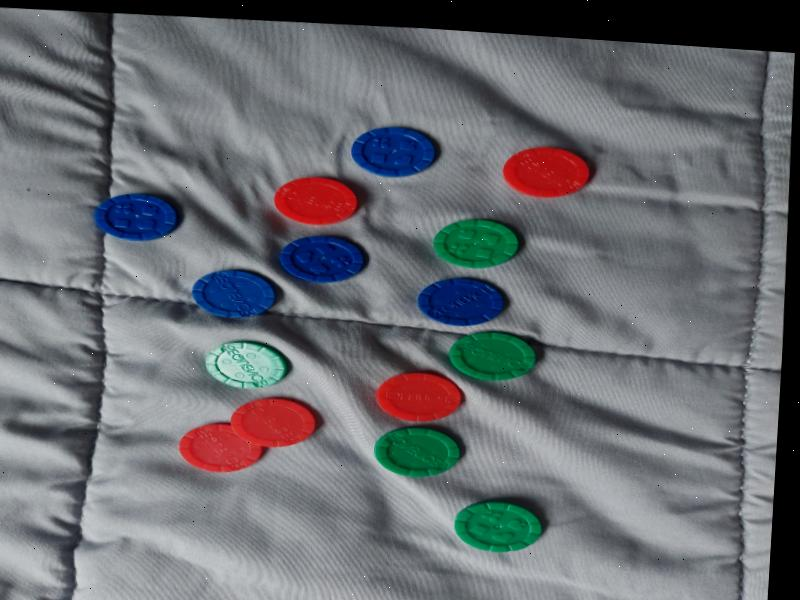Blue_Token: (344, 119, 446, 185), (179, 261, 284, 325), (87, 185, 184, 249), (411, 271, 510, 330), (275, 229, 371, 289)
Green_Token: (433, 493, 553, 561), (424, 209, 538, 279), (365, 419, 473, 485), (193, 332, 296, 396), (443, 323, 541, 389)
Red_Token: (490, 139, 605, 206), (260, 169, 366, 230), (175, 415, 269, 481), (226, 391, 321, 453), (374, 367, 469, 426)
